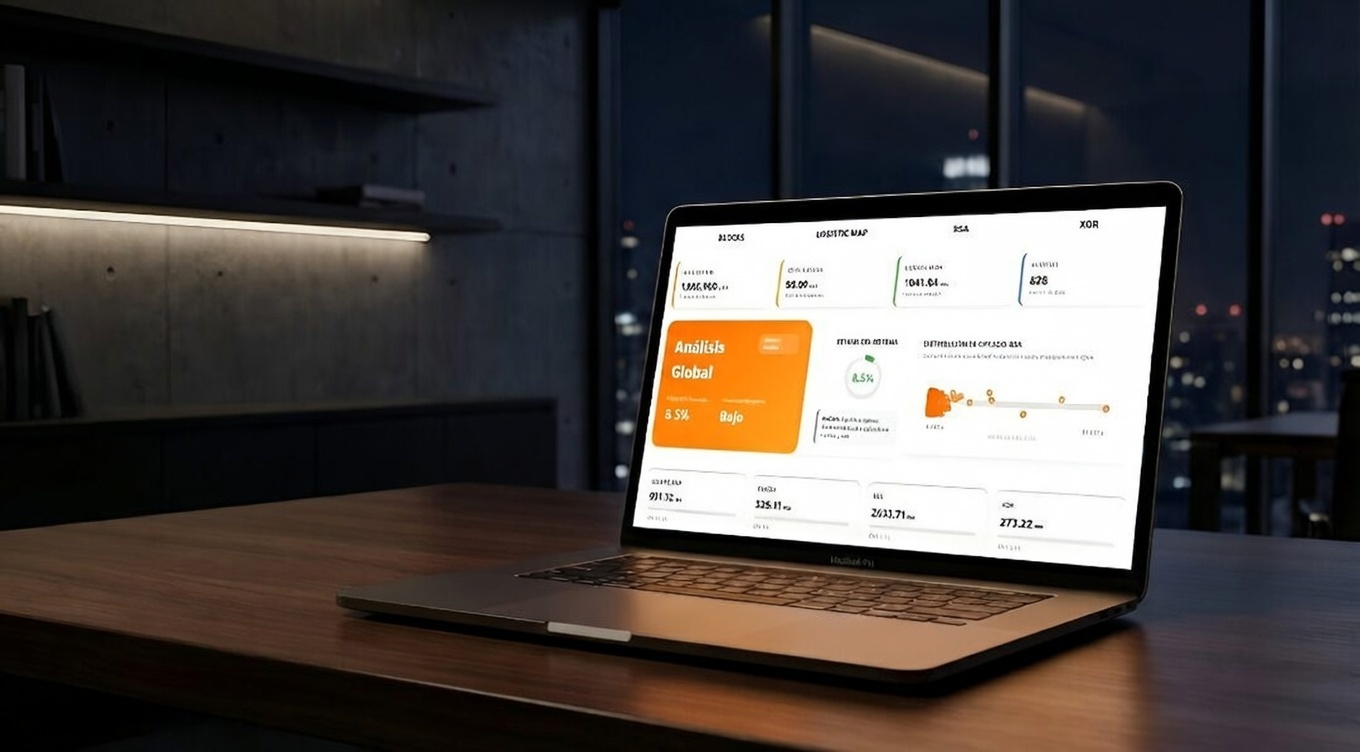

This screenshot's page, from the dashboard's own definition file:
{"tool":"powerbi","page":{"name":"Página 1","canvas":[1280,720],"ordinal":0},"visuals":[{"type":"htmlContent443BE3AD55E043BF878BED274D3A6855","fields":{"content":["Graficos.Uena_FullWidth_Comparison"]},"box":[20,230,702.2,302.2],"z":0},{"type":"htmlContent443BE3AD55E043BF878BED274D3A6855","fields":{"content":["Graficos.Meddida"]},"box":[27.8,566.7,1205.6,153.3],"z":1000},{"type":"slicer","fields":{"Values":["Datos.Encriptacion"]},"box":[10,10,1243.3,75.6],"z":2000},{"type":"htmlContent443BE3AD55E043BF878BED274D3A6855","fields":{"content":["Graficos.Uena_Distribucion_Pura_Cifrado"]},"box":[698.9,243.3,523.3,288.9],"z":3000},{"type":"htmlContent443BE3AD55E043BF878BED274D3A6855","fields":{"content":["Graficos.Uena_Dashboard_Full_Premium"]},"box":[20,95.6,1213.3,125.6],"z":4000}]}

Visuals, with their boxes in screenshot pixels (x1, y1, x2, y2), scaled from the page's 1280x720 canvas onto the 1360x752 screenshot:
htmlContent443BE3AD55E043BF878BED274D3A6855 - Graficos.Uena_FullWidth_Comparison: [21, 240, 767, 556]
htmlContent443BE3AD55E043BF878BED274D3A6855 - Graficos.Meddida: [30, 592, 1310, 751]
slicer - Datos.Encriptacion: [11, 10, 1332, 89]
htmlContent443BE3AD55E043BF878BED274D3A6855 - Graficos.Uena_Distribucion_Pura_Cifrado: [743, 254, 1299, 556]
htmlContent443BE3AD55E043BF878BED274D3A6855 - Graficos.Uena_Dashboard_Full_Premium: [21, 100, 1310, 231]
